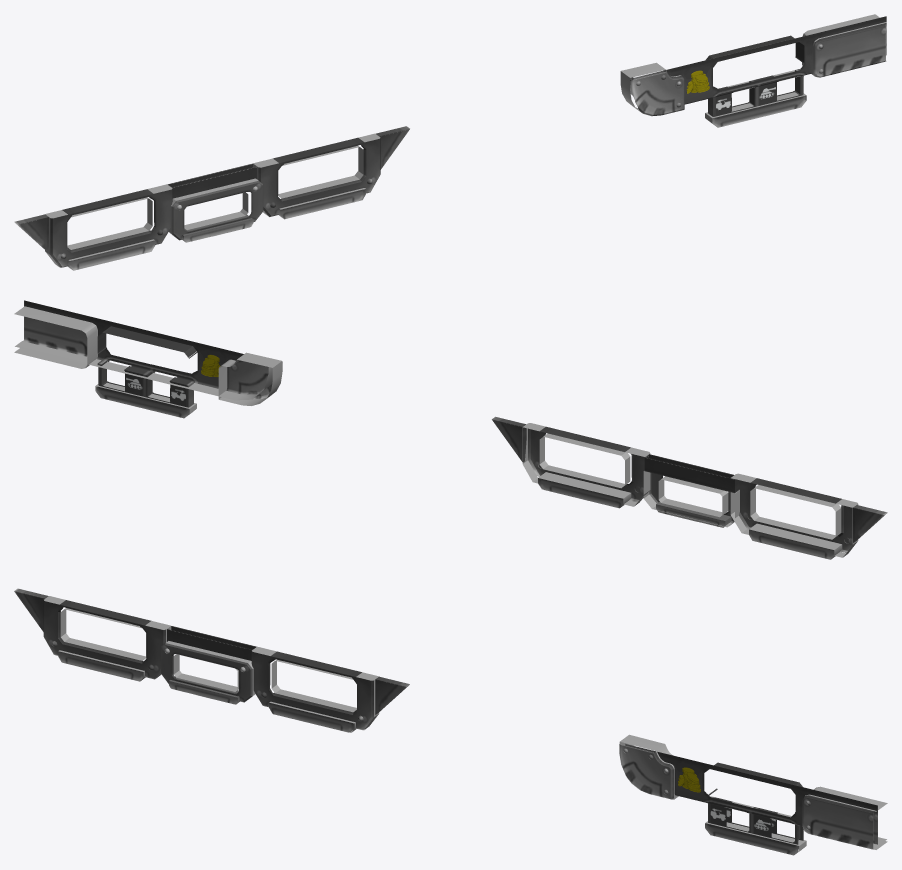
File: UICityRush_Upper.fbx
3 renders of one model, top to bottom at view 1: azimuth 30°, elevation 25°; view 2: azimuth 150°, elevation 25°; view 3: azimuth 330°, elevation 25°, orthographic.
Visible parts, largest first — view 1: pCube27; view 2: pCube27; view 3: pCube27.
Boxes of the visible parts, box(x1,y1,x2,y2) form: pCube27: box(14, 14, 886, 270); pCube27: box(14, 300, 887, 559); pCube27: box(14, 588, 887, 855).
Size of the model in its own units: 245 by 19.68 by 6.82.
Materials: 3 (1 with a texture image).
